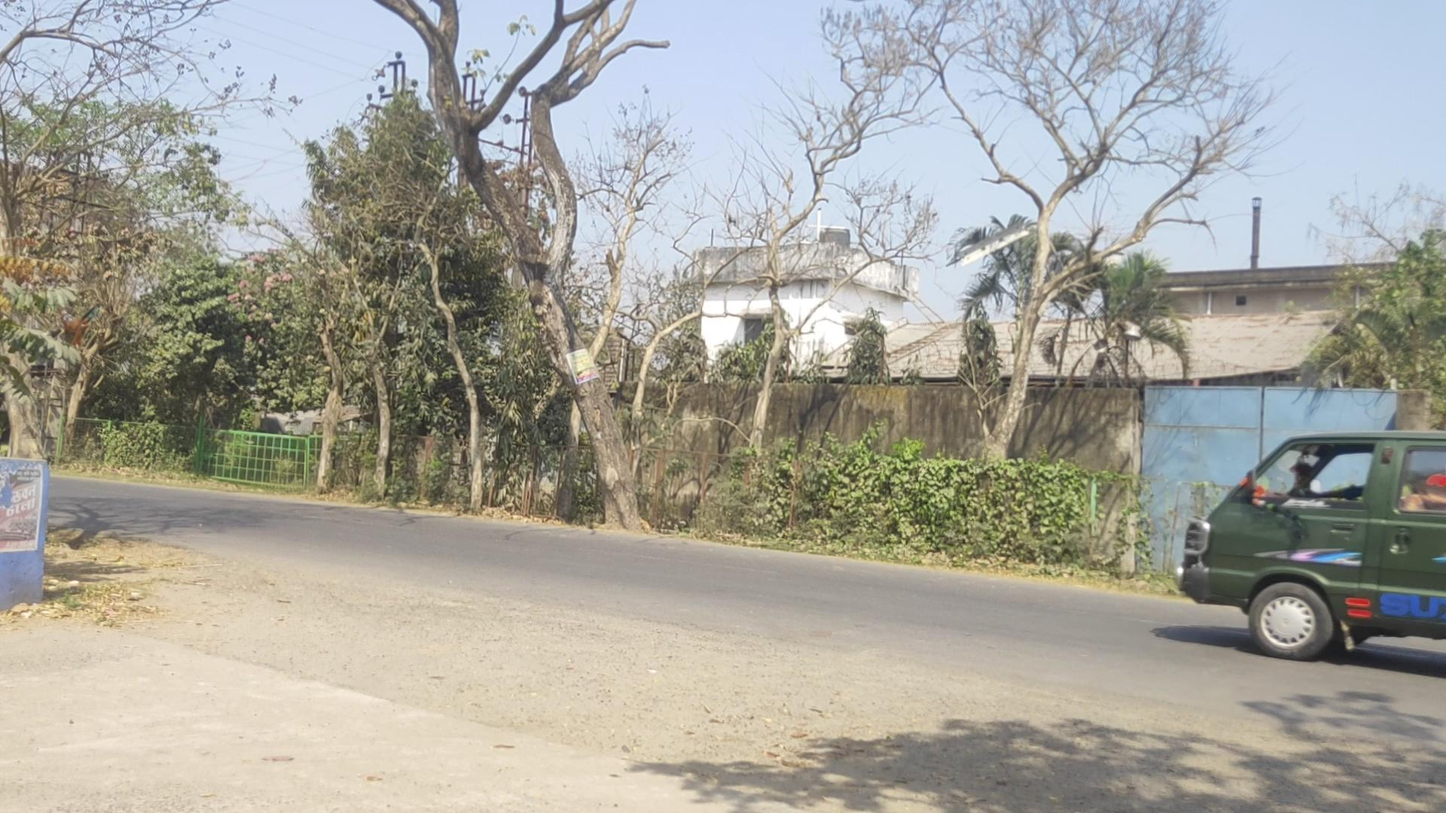van: (1175, 431, 1446, 662)
